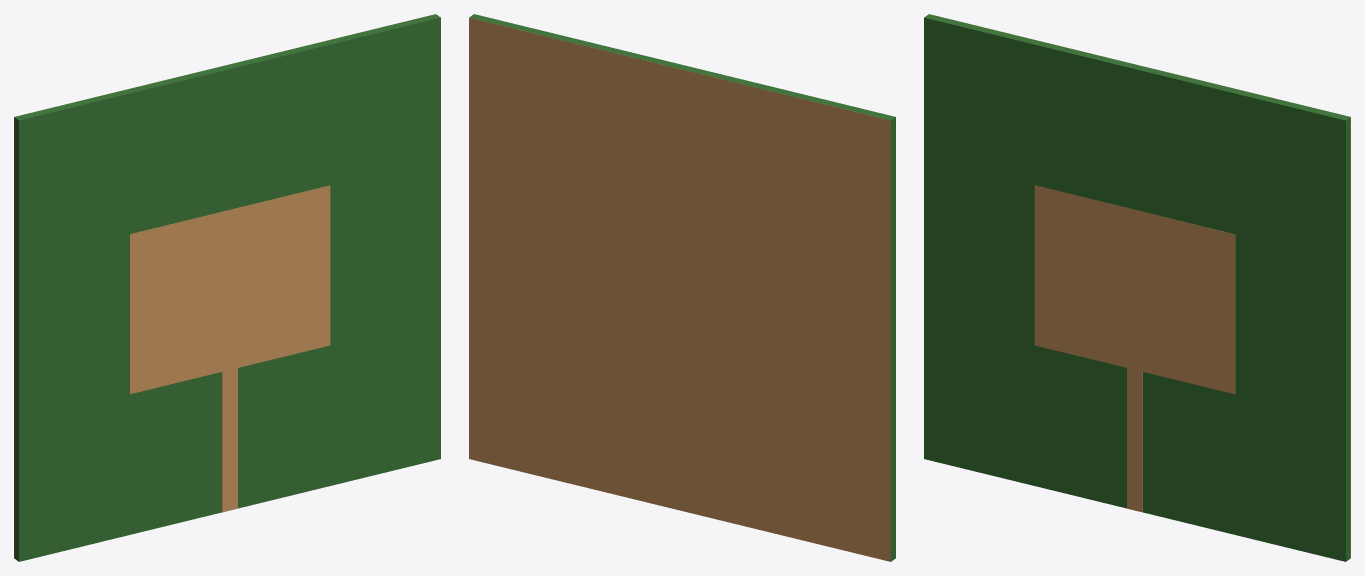
3 views of the same model, side by side, from view 1: azimuth 30°, elevation 25°; view 2: azimuth 150°, elevation 25°; view 3: azimuth 330°, elevation 25° (orthographic).
Parts seen in each view (by area): view 1: Подложка, Патч, Линия питания; view 2: Земля, Подложка; view 3: Подложка, Патч, Линия питания.
Boxes of the visible parts, x1,y1,x2,y2 form: Подложка: [14, 14, 440, 561]; Патч: [129, 185, 330, 394]; Линия питания: [222, 368, 237, 512]; Земля: [469, 17, 890, 561]; Подложка: [469, 14, 895, 561]; Подложка: [924, 14, 1350, 561]; Патч: [1034, 185, 1235, 394]; Линия питания: [1127, 368, 1142, 512].
Bounding box in the file's own units: 80 × 80 × 1.67.
